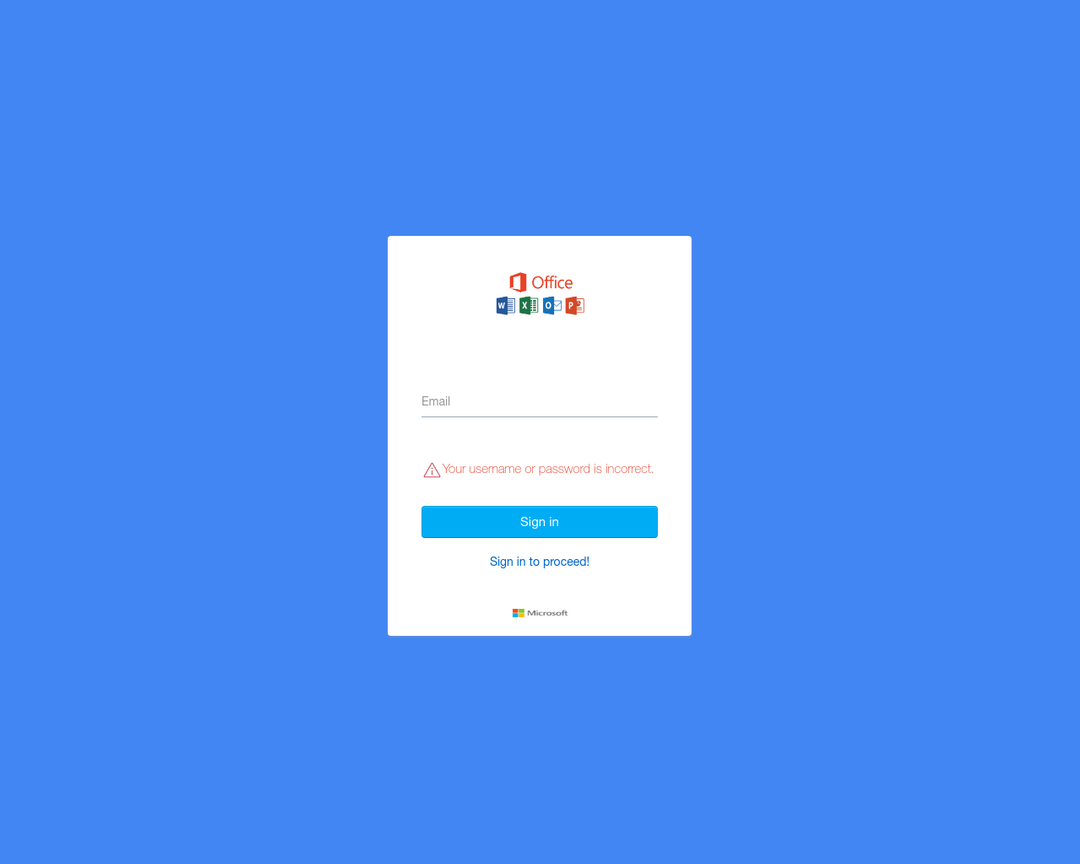Microsoft: (508, 606, 573, 622)
